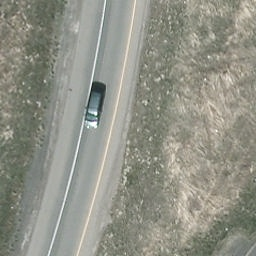car: (84, 87, 104, 129)
